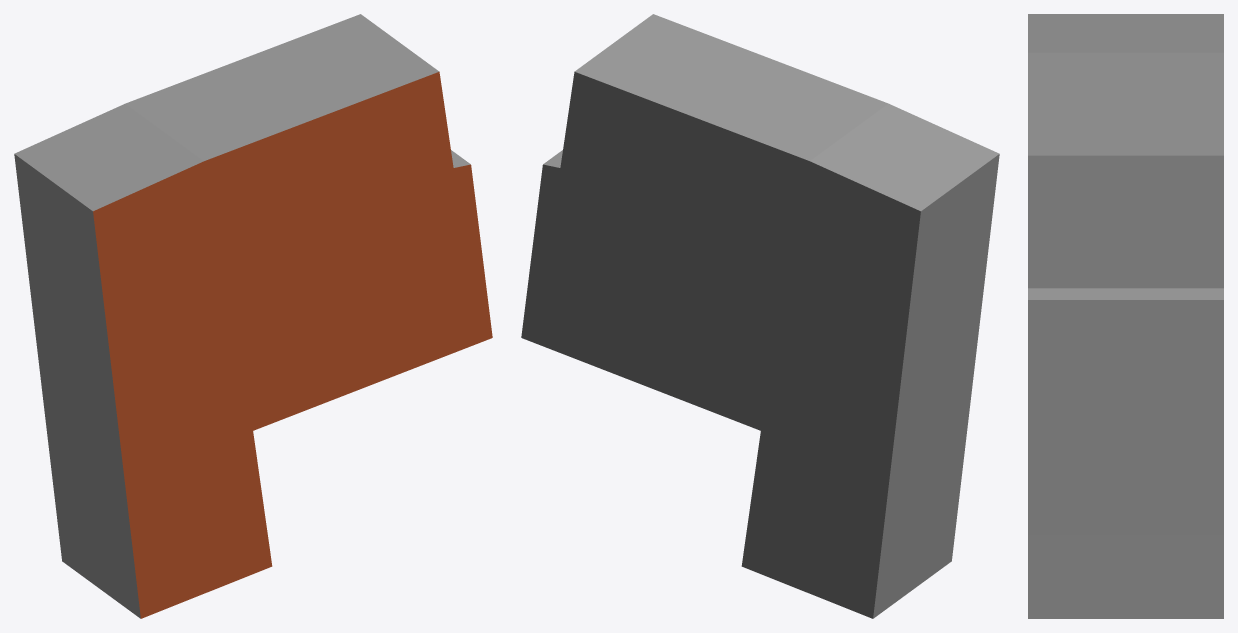
Rendered from construction_4105_assumed_A_Casa_h6m.obj.
3 renders of one model, left to right at view 1: azimuth 30°, elevation 25°; view 2: azimuth 150°, elevation 25°; view 3: azimuth 270°, elevation 25°, orthographic. The views are drawn at different scales.
Parts seen in each view (by area): view 1: construction_4105_assumed_A_Casa; view 2: construction_4105_assumed_A_Casa; view 3: construction_4105_assumed_A_Casa.
Boxes of the visible parts, x1=… form: construction_4105_assumed_A_Casa: x1=14, y1=14, x2=492, y2=618; construction_4105_assumed_A_Casa: x1=521, y1=14, x2=999, y2=618; construction_4105_assumed_A_Casa: x1=1028, y1=14, x2=1223, y2=618.
Size of the model in its own units: 17.58 by 19.94 by 6.
